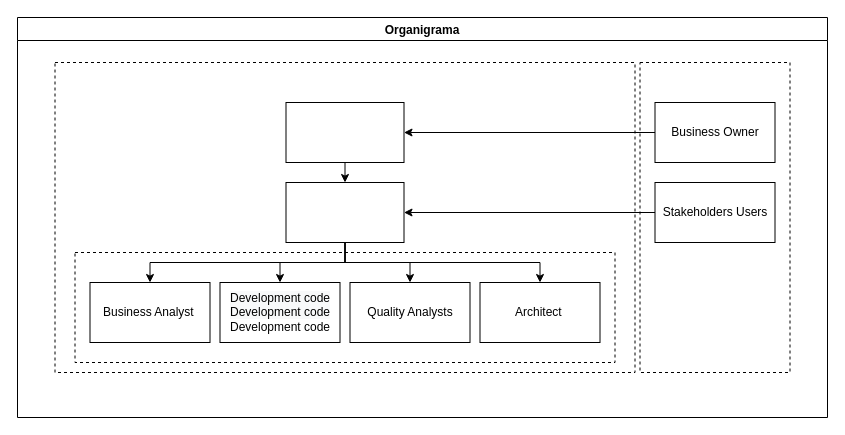
The diagram is 845 pixels wide and 435 high, and some of its shapes have lost their labels. The shapes that lost their labels are listed below. From the top down, each one's centre as x and y in pixels, then its label:
At point 344,132: "Product Owner".
At point 344,212: "Master SCRUM".
